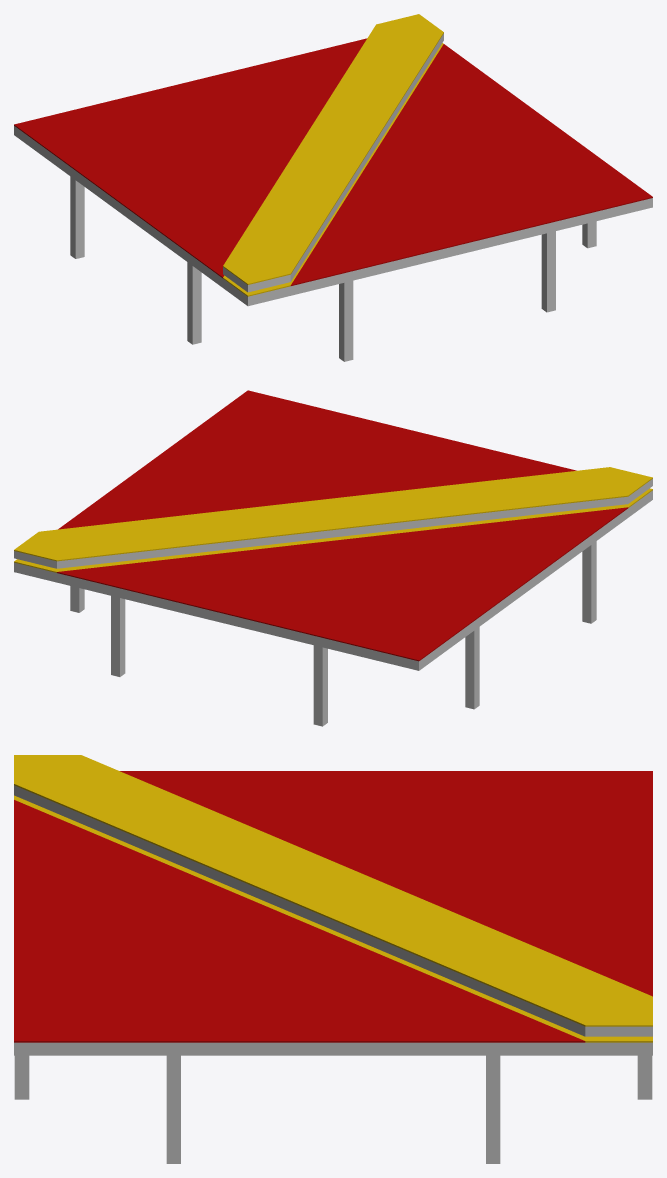
The model's file is ClosedSign.gltf.
3 renders of one model, top to bottom at view 1: azimuth 30°, elevation 25°; view 2: azimuth 150°, elevation 25°; view 3: azimuth 270°, elevation 25°, orthographic. The views are drawn at different scales.
Parts seen in each view (by area): view 1: Line005, Line004, Line003, Box009, Line006, Box007, Box008, Box003, Box004, Line002; view 2: Line004, Line005, Line003, Box009, Line006, Line002, Box006, Box005, Box004, Box003; view 3: Line005, Line004, Line003, Box009, Line006, Line002, Box002, Box001, Box008, Box005.
Boxes of the visible parts, bbox=[...] form: Line005: bbox=[290, 44, 652, 285]; Line004: bbox=[14, 38, 366, 278]; Line003: bbox=[223, 14, 443, 284]; Box009: bbox=[14, 126, 652, 306]; Line006: bbox=[223, 33, 443, 292]; Box007: bbox=[339, 280, 353, 361]; Box008: bbox=[541, 231, 555, 312]; Box003: bbox=[70, 176, 84, 258]; Box004: bbox=[187, 262, 201, 344]; Line002: bbox=[223, 43, 443, 296]; Line004: bbox=[57, 507, 628, 661]; Line005: bbox=[58, 390, 576, 529]; Line003: bbox=[14, 467, 652, 561]; Box009: bbox=[14, 490, 652, 670]; Line006: bbox=[14, 479, 652, 568]; Line002: bbox=[14, 488, 652, 572]; Box006: bbox=[313, 645, 327, 726]; Box005: bbox=[111, 596, 125, 676]; Box004: bbox=[582, 541, 596, 623]; Box003: bbox=[465, 627, 479, 709]; Line005: bbox=[14, 800, 585, 1042]; Line004: bbox=[120, 771, 652, 996]; Line003: bbox=[14, 755, 652, 1026]; Box009: bbox=[14, 1042, 652, 1055]; Line006: bbox=[14, 785, 652, 1036]; Line002: bbox=[14, 795, 652, 1042]; Box002: bbox=[166, 1055, 180, 1163]; Box001: bbox=[486, 1055, 500, 1163]; Box008: bbox=[14, 1055, 29, 1099]; Box005: bbox=[637, 1055, 652, 1099].
Bounding box in the file's own units: 4 × 0.96 × 4.
